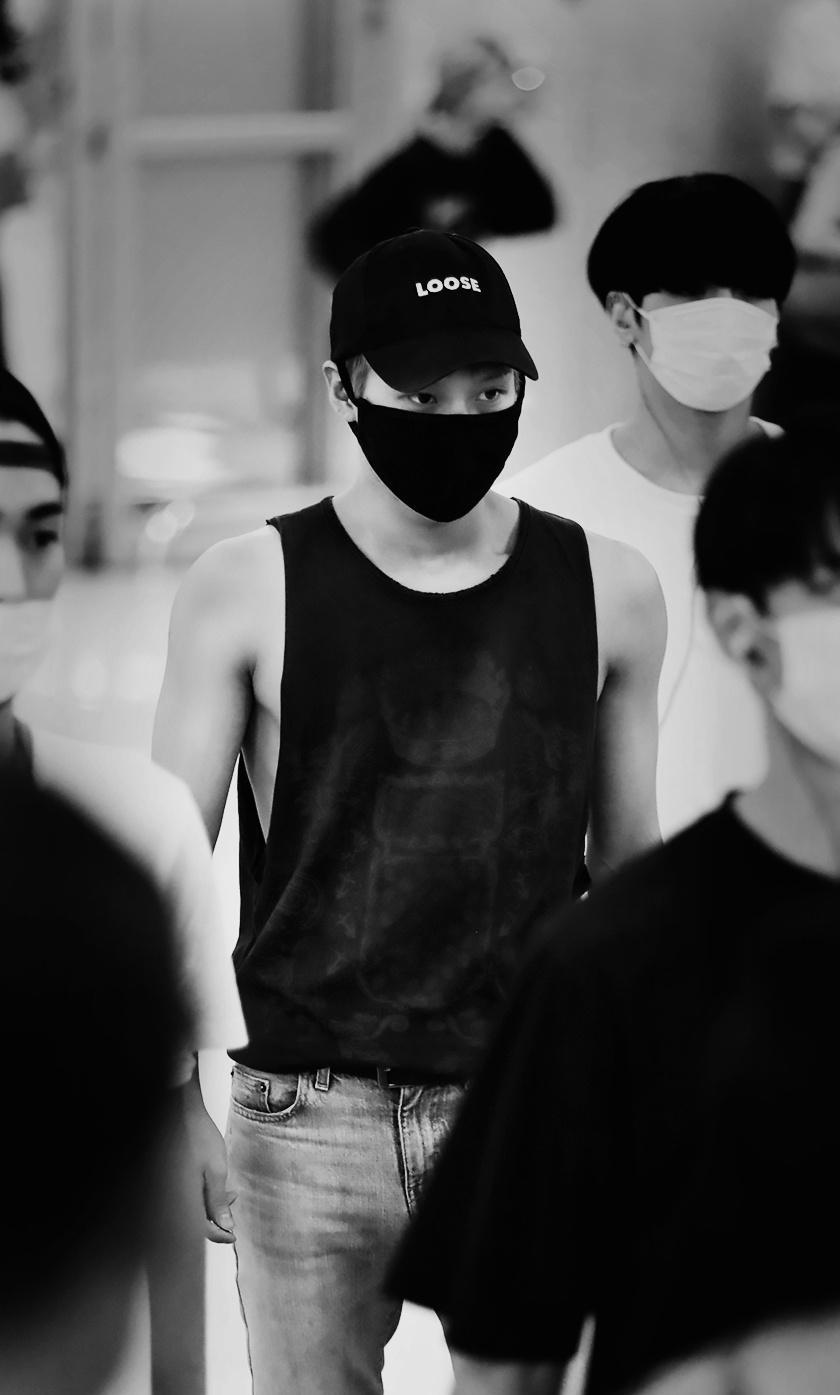OK: (353, 353, 509, 509), (635, 261, 782, 411), (759, 548, 840, 774)
WRONG: (1, 488, 69, 708)
